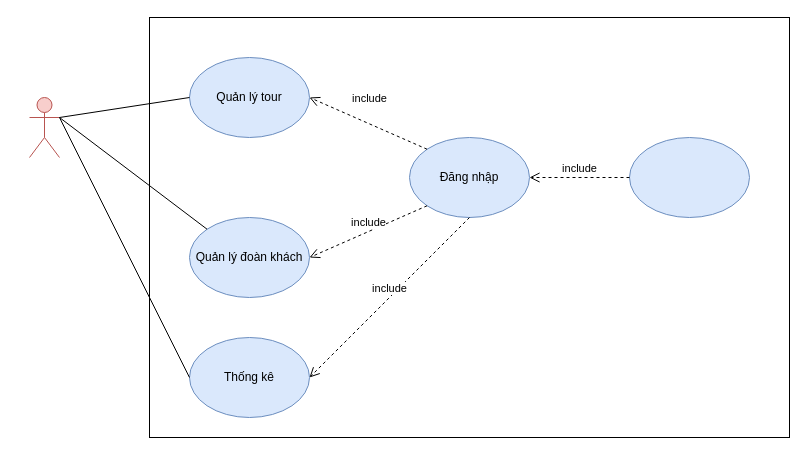
This 807x455 diagram has some shape labels left out. Each missing label, with the centre of its shape:
"Nhân viên" goes at point 44,127.
"Đăng xuất" goes at point 689,177.
